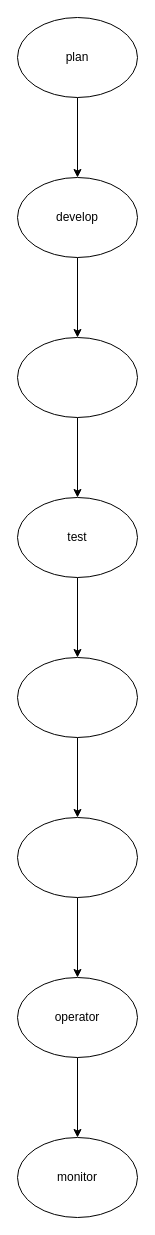
This 155x1235 diagram has some shape labels left out. The centre of each missing label's shape, as x and y in pixels:
"buiild" belongs at point (77, 377).
"deploy" belongs at point (77, 857).
"release" belongs at point (77, 697).
